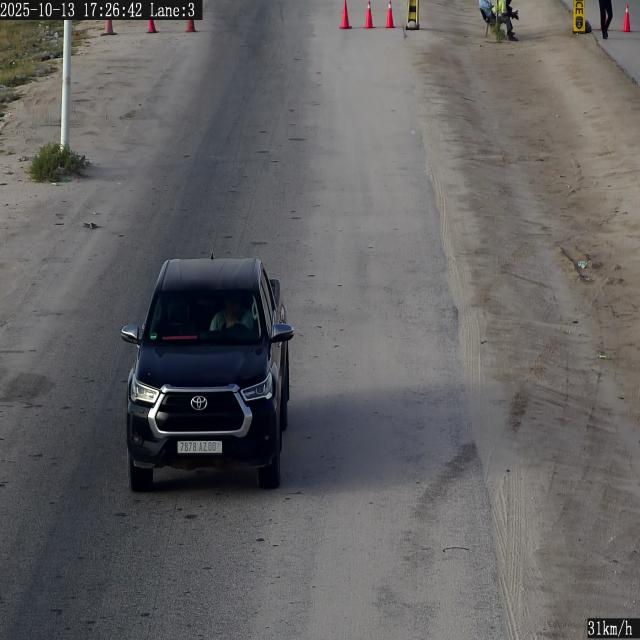BUS: (178, 441, 222, 454)
